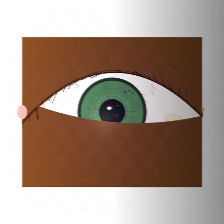pinguecula_lesion: (153, 102, 194, 135)
